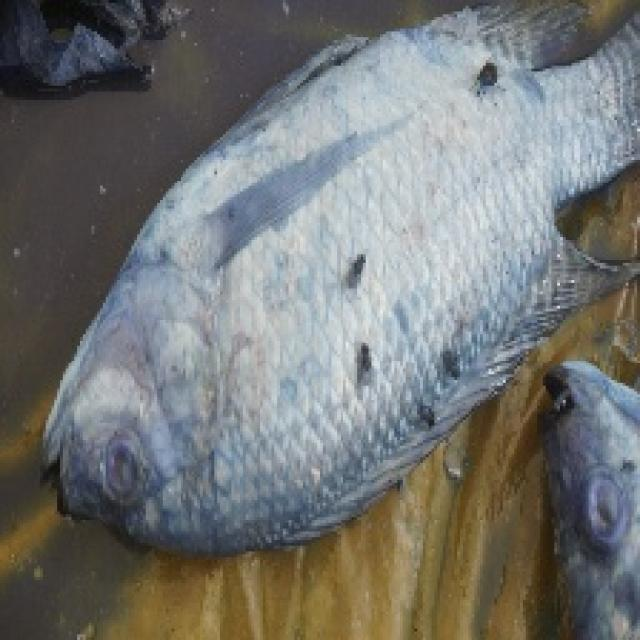Non-Fresh: (209, 158, 498, 436), (86, 423, 172, 516)
